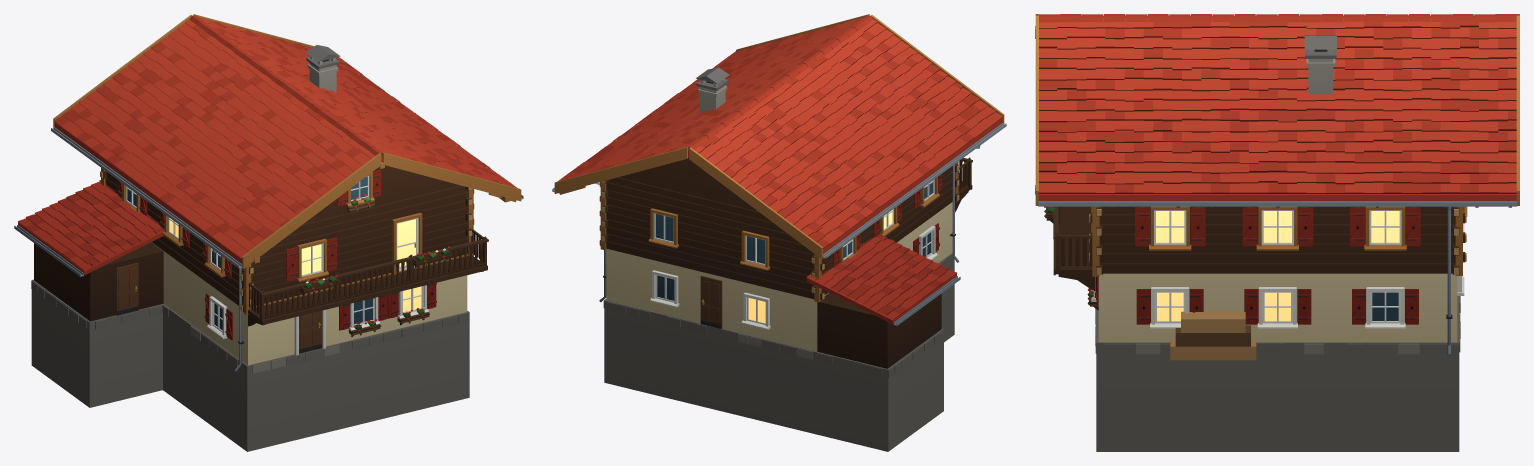
Rendered from Chalet_G.fbx.
3 renders of one model, left to right at view 1: azimuth 30°, elevation 25°; view 2: azimuth 150°, elevation 25°; view 3: azimuth 270°, elevation 25°, orthographic. The views are drawn at different scales.
Parts seen in each view (by area): view 1: Chalet_G_LOD0; view 2: Chalet_G_LOD0; view 3: Chalet_G_LOD0.
Boxes of the visible parts, box(x1,y1,x2,y2) form: Chalet_G_LOD0: box(14, 14, 523, 451); Chalet_G_LOD0: box(552, 14, 1006, 451); Chalet_G_LOD0: box(1035, 14, 1519, 451).
Size of what is drawn, in the model's own units: 13.95 by 11.68 by 13.52.
Materials: 1 (1 with a texture image).
